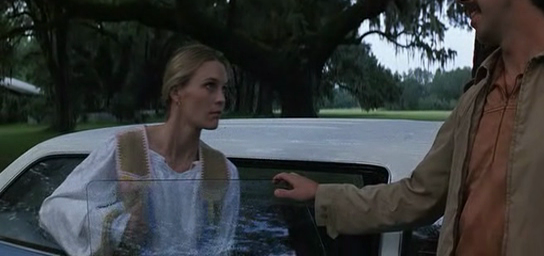face: (181, 60, 227, 130), (459, 1, 503, 48)
ms: (1, 1, 544, 256)
person: (271, 1, 544, 256), (39, 43, 239, 256)
